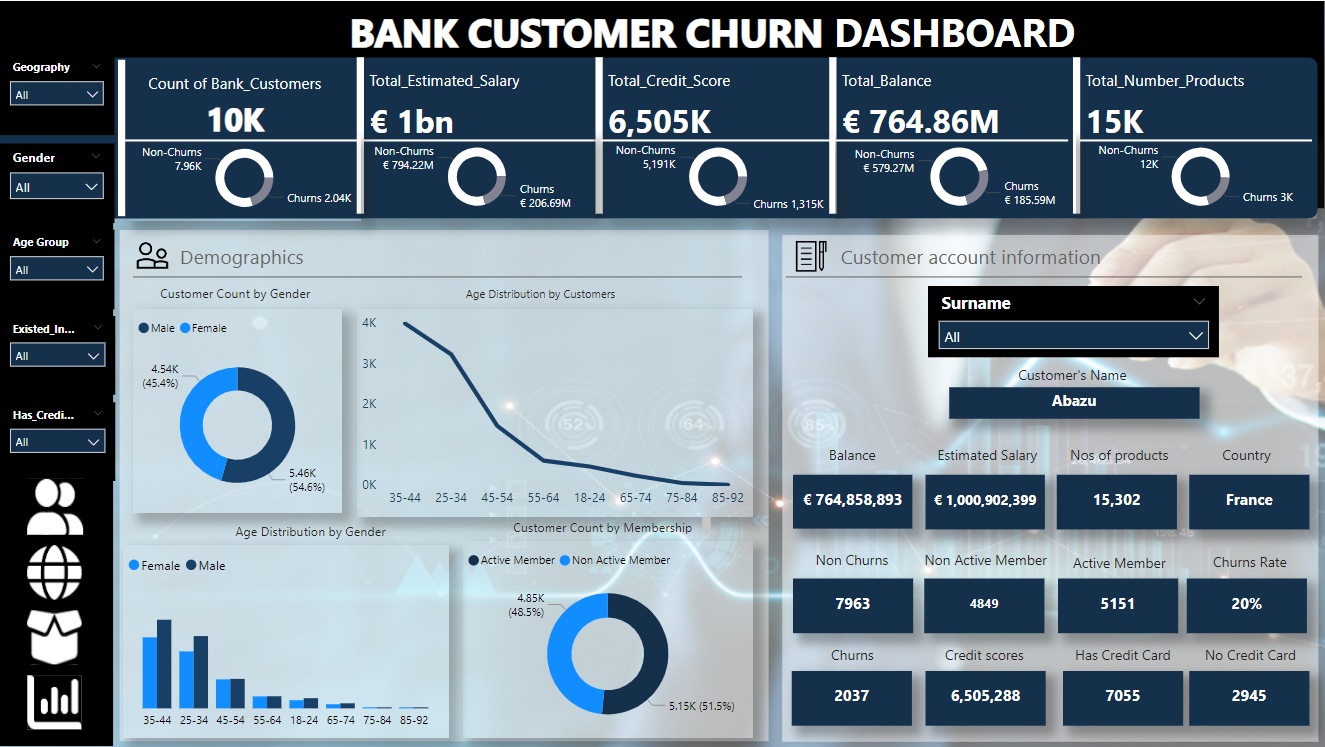

The page's visual inventory and layout, read from the dashboard file:
{"tool":"powerbi","page":{"name":"Demographic ","canvas":[1280,720],"ordinal":2},"visuals":[{"type":"shape","box":[0,54.8,111.1,665.1],"z":0},{"type":"actionButton","box":[24.5,646.4,62,60.6],"z":0,"group":"g1"},{"type":"basicShape","box":[751.9,220.7,528.1,499.2],"z":1000},{"type":"actionButton","box":[24.5,457.4,62,62],"z":1000,"group":"g1"},{"type":"shape","box":[0,0,1280,200.3],"z":2000},{"type":"actionButton","box":[24.5,521.4,62,60.6],"z":2000,"group":"g1"},{"type":"card","fields":{"Values":["MEASURE.Total_Balance"]},"box":[767.7,457.5,115.4,51.9],"z":3000},{"type":"actionButton","box":[24.5,583.9,62,60.6],"z":3000,"group":"g1"},{"type":"textbox","box":[331.9,0,725.7,67.8],"z":4000},{"type":"card","fields":{"Values":["MEASURE.Total_Number_Products"]},"box":[1021.9,457.5,116.2,52.5],"z":5000},{"type":"basicShape","box":[111.1,216.4,639.1,503.5],"z":6000},{"type":"card","fields":{"Values":["MEASURE.Total_Estimated_Salary"]},"box":[895,457.5,115,52.5],"z":7000},{"type":"basicShape","box":[121.2,246.7,607.4,40.4],"z":8000},{"type":"textbox","box":[149.2,229.1,171.7,36.1],"z":9000},{"type":"image","box":[129,223.6,40.4,44.7],"z":10000},{"type":"shape","box":[0,54.8,1274,155.8],"z":11000},{"type":"cardVisual","fields":{"Data":["MEASURE.Total_Credit_Score"]},"box":[571.3,49.1,235.2,161.6],"z":12000},{"type":"cardVisual","fields":{"Data":["MEASURE.Total_Estimated_Salary"]},"box":[341.9,49.1,235.2,161.6],"z":13000},{"type":"cardVisual","fields":{"Data":["MEASURE.Total_Balance"]},"box":[797.8,49.1,235.2,161.6],"z":14000},{"type":"cardVisual","fields":{"Data":["MEASURE.Total_Number_Products"]},"box":[1033,49.1,235.2,161.6],"z":15000},{"type":"donutChart","fields":{"Category":["Bank_Churn.Gender"],"Y":["CountNonNull(Bank_Churn.CustomerId)"]},"box":[129.8,296.3,202,197.7],"z":16000},{"type":"cardVisual","fields":{"Data":["MEASURE.Count of Bank_Customers"]},"box":[111.1,51.9,235.2,161.6],"z":17000},{"type":"lineChart","title":"Nos_Of_Customer_By_Age","fields":{"Y":["MEASURE.Count of Bank_Customers"],"Category":["Bank_Churn.Age Group"]},"box":[346.3,296.3,382.3,200.5],"z":18000},{"type":"slicer","fields":{"Values":["Bank_Churn.Age Group"]},"box":[1.3,220.6,111.1,76.5],"z":19000},{"type":"slicer","fields":{"Values":["Bank_Churn.Gender"]},"box":[1.3,137,111.1,76.5],"z":20000},{"type":"slicer","fields":{"Values":["Bank_Churn.Geography"]},"box":[1.3,51.9,111.1,77.9],"z":21000},{"type":"basicShape","box":[750.2,246.7,518,40.4],"z":23000},{"type":"textbox","box":[808.5,229.4,314.9,35.6],"z":24000},{"type":"image","box":[761.3,227.1,47.2,39.5],"z":25000},{"type":"slicer","fields":{"Values":["Bank_Churn.Surname"]},"box":[898,275.1,281.1,68.8],"z":26000},{"type":"card","fields":{"Values":["Min(Bank_Churn.Surname)"]},"box":[917.9,372.5,241.2,30],"z":27000},{"type":"shape","box":[121.2,97.5,225,73.8],"z":28000},{"type":"shape","box":[352.5,97.5,225,73.8],"z":29000},{"type":"donutChart","fields":{"Category":["Bank_Churn.Existed_In_Detail "],"Y":["CountNonNull(Bank_Churn.CustomerId)"]},"box":[125,130,225,81.2],"z":30000},{"type":"donutChart","fields":{"Category":["Bank_Churn.Existed_In_Detail "],"Y":["MEASURE.Total_Estimated_Salary"]},"box":[350.3,128.8,225,81.2],"z":31000},{"type":"donutChart","fields":{"Category":["Bank_Churn.Existed_In_Detail "],"Y":["MEASURE.Total_Credit_Score"]},"box":[583.1,128.8,225,81.2],"z":32000},{"type":"shape","box":[581.2,97.5,225,73.8],"z":33000},{"type":"shape","box":[808.8,97.5,225,73.8],"z":34000},{"type":"donutChart","fields":{"Category":["Bank_Churn.Existed_In_Detail "],"Y":["MEASURE.Total_Balance"]},"box":[815.9,128.8,225,81.2],"z":35000},{"type":"shape","box":[1043.8,97.5,225,73.8],"z":36000},{"type":"donutChart","fields":{"Category":["Bank_Churn.Existed_In_Detail "],"Y":["MEASURE.Total_Number_Products"]},"box":[1048.8,128.8,225,81.2],"z":37000},{"type":"clusteredColumnChart","title":"Age distribution by Gender","fields":{"Category":["Bank_Churn.Age Group"],"Y":["MEASURE.Count of Female","MEASURE.Count of Male"]},"box":[121.2,525.2,314.5,186.1],"z":38000},{"type":"textbox","box":[215,497.5,173.8,27.5],"z":39000},{"type":"textbox","box":[436.2,267.5,173.8,27.5],"z":41000},{"type":"textbox","box":[951.7,346.2,173.8,27.5],"z":42000},{"type":"textbox","box":[1016.2,423.8,136.2,30],"z":43000},{"type":"textbox","box":[787.2,423.8,79.4,30.3],"z":44000},{"type":"textbox","box":[892.5,423.8,123.8,30],"z":45000},{"type":"card","fields":{"Values":["Min(Bank_Churn.Geography)"]},"box":[1150,457.5,116.2,52.5],"z":46000},{"type":"textbox","box":[1161.2,423.8,90,30],"z":47000},{"type":"card","fields":{"Values":["MEASURE.Count of Non Churns"]},"box":[767.5,557.5,116.2,52.5],"z":48000},{"type":"textbox","box":[773.8,525,105,30],"z":49000},{"type":"card","fields":{"Values":["MEASURE.Count of Active_Members for No"]},"box":[893.8,557.5,116.2,52.5],"z":50000},{"type":"card","fields":{"Values":["MEASURE.Count of Active_Members for Yes"]},"box":[1022.5,557.5,116.2,52.5],"z":51000},{"type":"card","fields":{"Values":["MEASURE.Churn Rate"]},"box":[1147.5,557.5,116.2,52.5],"z":52000},{"type":"textbox","box":[883.8,525,137.5,30],"z":53000},{"type":"textbox","box":[1028.7,528.1,109.6,28.9],"z":54000},{"type":"textbox","box":[1156.2,527.5,105,30],"z":55000},{"type":"card","fields":{"Values":["MEASURE.Count of Churns"]},"box":[766.2,646.2,116.2,52.5],"z":56000},{"type":"textbox","box":[772.5,616.2,105,30],"z":57000},{"type":"card","fields":{"Values":["MEASURE.Total_Credit_Score"]},"box":[895,646.2,116.2,52.5],"z":58000},{"type":"textbox","box":[901.2,616.2,105,30],"z":59000},{"type":"textbox","box":[1021.2,616.2,130,30],"z":60000},{"type":"card","fields":{"Values":["MEASURE.Count of Has_Credit_Card for Yes"]},"box":[1027.5,646.2,116.2,52.5],"z":61000},{"type":"card","fields":{"Values":["MEASURE.Count of Has_Credit_Card_for No"]},"box":[1150,646.2,116.2,52.5],"z":62000},{"type":"textbox","box":[1143.8,616.2,130,30],"z":63000},{"type":"slicer","fields":{"Values":["Bank_Churn.Existed_In_Detail "]},"box":[0.8,304.1,112.2,76],"z":64000},{"type":"slicer","fields":{"Values":["Bank_Churn.Has_Credit_Card_In_Detail"]},"box":[0.8,387.3,112.2,76],"z":65000},{"type":"group","id":"g1","title":"Group 1","box":[24.5,457.4,62,249.6],"z":65001},{"type":"donutChart","fields":{"Category":["Bank_Churn.Is_Active_Member_In_Detail"],"Y":["CountNonNull(Bank_Churn.CustomerId)"]},"box":[448.7,520.8,279.9,190.4],"z":65002},{"type":"textbox","box":[142.8,268.4,173.1,27.4],"z":65003},{"type":"textbox","box":[486.2,493.4,206.3,26],"z":65004}]}

Visuals, with their boxes in screenshot pixels (x1, y1, x2, y2), scaled from the page's 1280x720 canvas onto the 1325x747 screenshot:
shape: crop(0, 57, 115, 746)
actionButton: crop(25, 671, 90, 734)
basicShape: crop(778, 229, 1324, 746)
actionButton: crop(25, 475, 90, 539)
shape: crop(0, 0, 1324, 208)
actionButton: crop(25, 541, 90, 604)
card - MEASURE.Total_Balance: crop(795, 475, 914, 529)
actionButton: crop(25, 606, 90, 669)
textbox: crop(344, 0, 1095, 70)
card - MEASURE.Total_Number_Products: crop(1058, 475, 1178, 529)
basicShape: crop(115, 225, 777, 746)
card - MEASURE.Total_Estimated_Salary: crop(926, 475, 1046, 529)
basicShape: crop(125, 256, 754, 298)
textbox: crop(154, 238, 332, 275)
image: crop(134, 232, 175, 278)
shape: crop(0, 57, 1319, 218)
cardVisual - MEASURE.Total_Credit_Score: crop(591, 51, 835, 219)
cardVisual - MEASURE.Total_Estimated_Salary: crop(354, 51, 597, 219)
cardVisual - MEASURE.Total_Balance: crop(826, 51, 1069, 219)
cardVisual - MEASURE.Total_Number_Products: crop(1069, 51, 1313, 219)
donutChart - Bank_Churn.Gender x CountNonNull(Bank_Churn.CustomerId): crop(134, 307, 343, 513)
cardVisual - MEASURE.Count of Bank_Customers: crop(115, 54, 358, 222)
"Nos_Of_Customer_By_Age" lineChart: crop(358, 307, 754, 515)
slicer - Bank_Churn.Age Group: crop(1, 229, 116, 308)
slicer - Bank_Churn.Gender: crop(1, 142, 116, 222)
slicer - Bank_Churn.Geography: crop(1, 54, 116, 135)
basicShape: crop(777, 256, 1313, 298)
textbox: crop(837, 238, 1163, 275)
image: crop(788, 236, 837, 277)
slicer - Bank_Churn.Surname: crop(930, 285, 1221, 357)
card - Min(Bank_Churn.Surname): crop(950, 386, 1200, 418)
shape: crop(125, 101, 358, 178)
shape: crop(365, 101, 598, 178)
donutChart - Bank_Churn.Existed_In_Detail  x CountNonNull(Bank_Churn.CustomerId): crop(129, 135, 362, 219)
donutChart - Bank_Churn.Existed_In_Detail  x MEASURE.Total_Estimated_Salary: crop(363, 134, 596, 218)
donutChart - Bank_Churn.Existed_In_Detail  x MEASURE.Total_Credit_Score: crop(604, 134, 837, 218)
shape: crop(602, 101, 835, 178)
shape: crop(837, 101, 1070, 178)
donutChart - Bank_Churn.Existed_In_Detail  x MEASURE.Total_Balance: crop(845, 134, 1077, 218)
shape: crop(1080, 101, 1313, 178)
donutChart - Bank_Churn.Existed_In_Detail  x MEASURE.Total_Number_Products: crop(1086, 134, 1319, 218)
"Age distribution by Gender" clusteredColumnChart: crop(125, 545, 451, 738)
textbox: crop(223, 516, 402, 545)
textbox: crop(452, 278, 631, 306)
textbox: crop(985, 359, 1165, 388)
textbox: crop(1052, 440, 1193, 471)
textbox: crop(815, 440, 897, 471)
textbox: crop(924, 440, 1052, 471)
card - Min(Bank_Churn.Geography): crop(1190, 475, 1311, 529)
textbox: crop(1202, 440, 1295, 471)
card - MEASURE.Count of Non Churns: crop(794, 578, 915, 633)
textbox: crop(801, 545, 910, 576)
card - MEASURE.Count of Active_Members for No: crop(925, 578, 1046, 633)
card - MEASURE.Count of Active_Members for Yes: crop(1058, 578, 1179, 633)
card - MEASURE.Churn Rate: crop(1188, 578, 1308, 633)
textbox: crop(915, 545, 1057, 576)
textbox: crop(1065, 548, 1178, 578)
textbox: crop(1197, 547, 1306, 578)
card - MEASURE.Count of Churns: crop(793, 670, 913, 725)
textbox: crop(800, 639, 908, 670)
card - MEASURE.Total_Credit_Score: crop(926, 670, 1047, 725)
textbox: crop(933, 639, 1042, 670)
textbox: crop(1057, 639, 1192, 670)
card - MEASURE.Count of Has_Credit_Card for Yes: crop(1064, 670, 1184, 725)
card - MEASURE.Count of Has_Credit_Card_for No: crop(1190, 670, 1311, 725)
textbox: crop(1184, 639, 1319, 670)
slicer - Bank_Churn.Existed_In_Detail : crop(1, 316, 117, 394)
slicer - Bank_Churn.Has_Credit_Card_In_Detail: crop(1, 402, 117, 481)
"Group 1" group: crop(25, 475, 90, 734)
donutChart - Bank_Churn.Is_Active_Member_In_Detail x CountNonNull(Bank_Churn.CustomerId): crop(464, 540, 754, 738)
textbox: crop(148, 278, 327, 307)
textbox: crop(503, 512, 717, 539)
